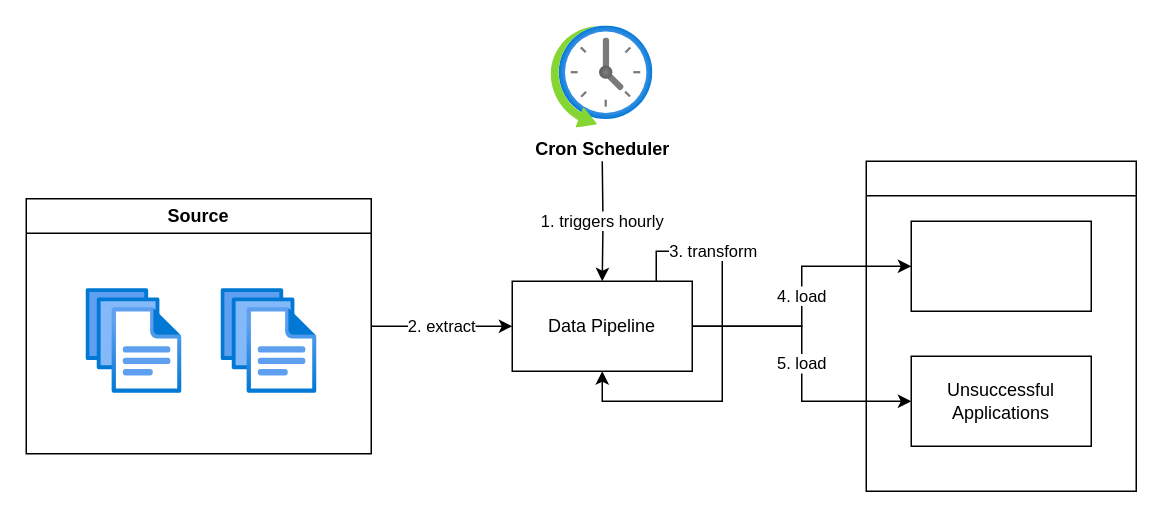
This 1163x518 diagram has some shape labels left out. Here are the shapes that lost their labels. From the top down, the box of each, then its label:
(910, 220, 1091, 311): Successful Applications
(865, 160, 1136, 491): Destination
